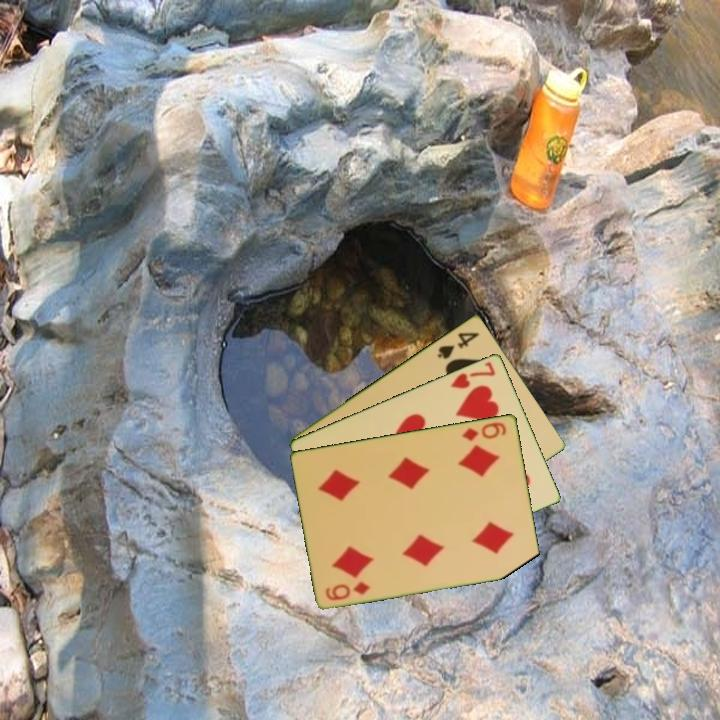4s: (434, 328, 482, 362)
6d: (459, 418, 509, 444), (322, 578, 373, 603)
7h: (447, 358, 498, 391)
